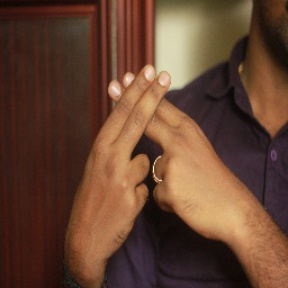F: (85, 59, 201, 170)
